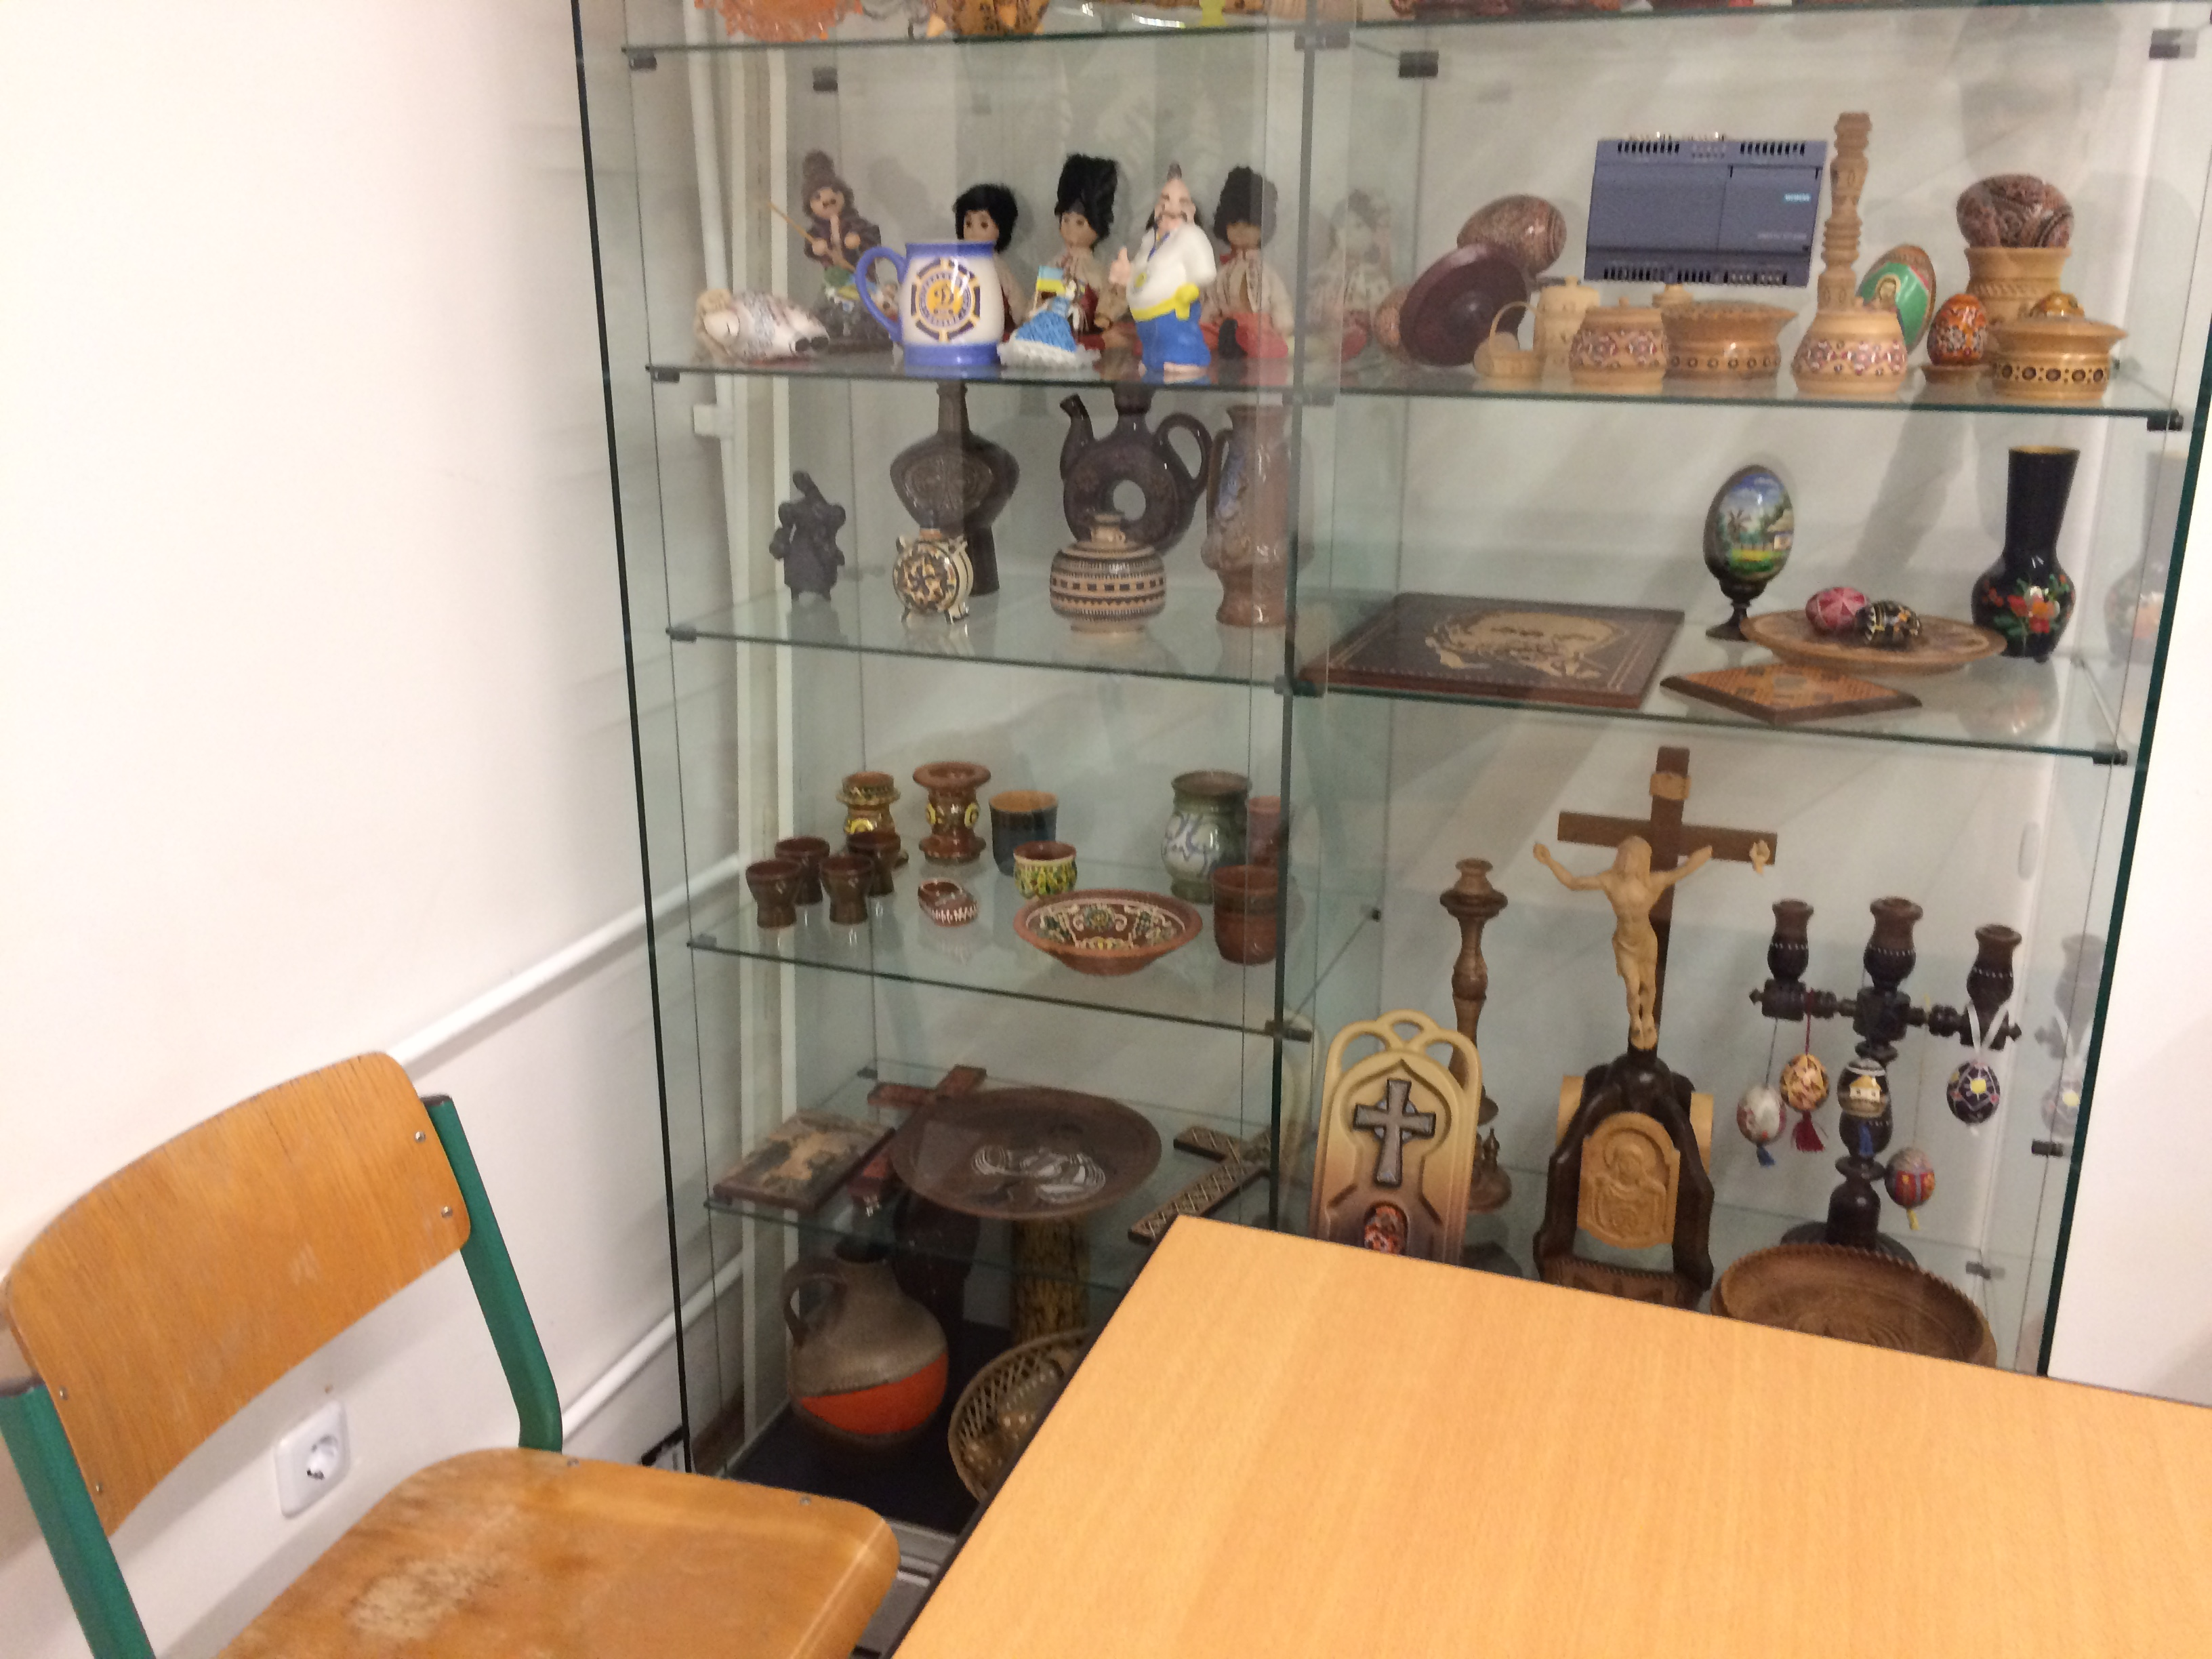iot2000: (1580, 129, 1831, 293)
